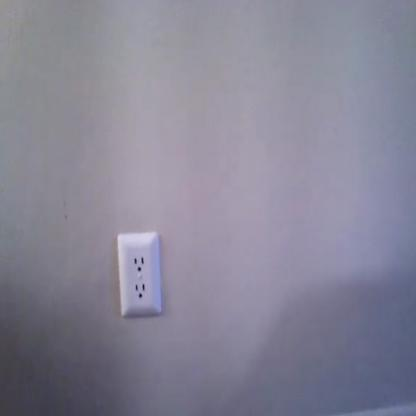OUTLET: (116, 232, 162, 317)
